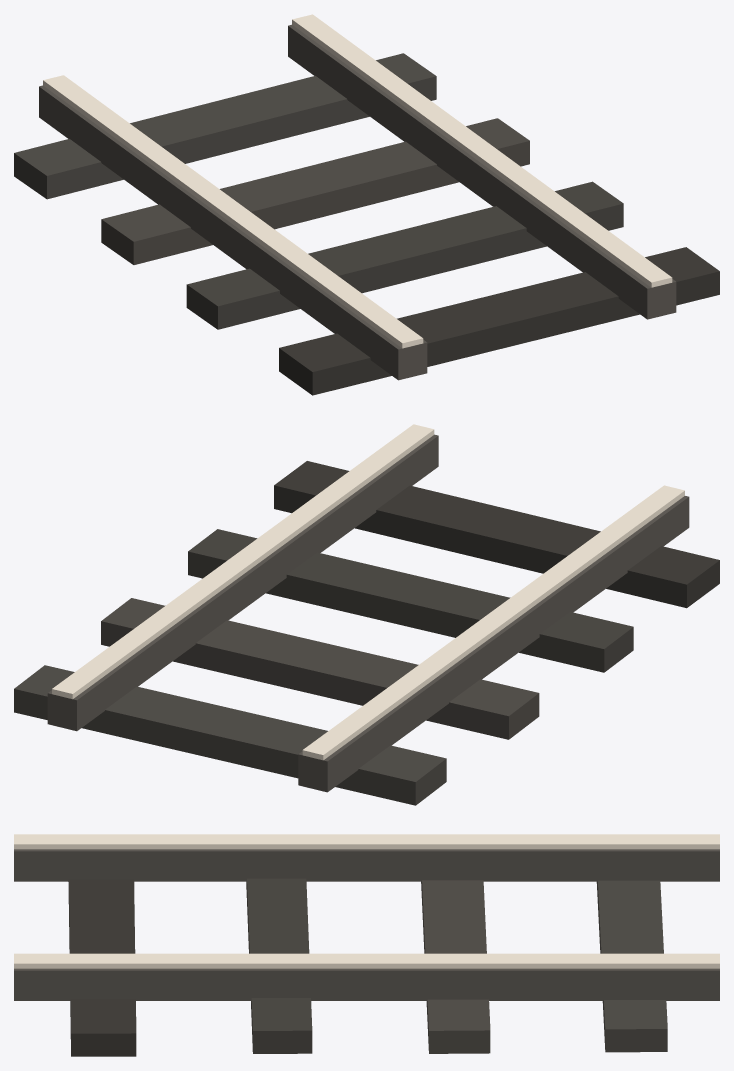
File: SM_VKI_Overlay_Track_Straight.fbx
3 renders of one model, top to bottom at view 1: azimuth 30°, elevation 25°; view 2: azimuth 150°, elevation 25°; view 3: azimuth 270°, elevation 25°, orthographic. The views are drawn at different scales.
Parts seen in each view (by area): view 1: SM_VKI_Overlay_Track_Straight.001; view 2: SM_VKI_Overlay_Track_Straight.001; view 3: SM_VKI_Overlay_Track_Straight.001.
Boxes of the visible parts, x1,y1,x2,y2 form: SM_VKI_Overlay_Track_Straight.001: (14, 14, 719, 395); SM_VKI_Overlay_Track_Straight.001: (14, 424, 719, 805); SM_VKI_Overlay_Track_Straight.001: (14, 834, 719, 1056).
Bounding box in the file's own units: 0.9981 × 0.1346 × 1.5.
